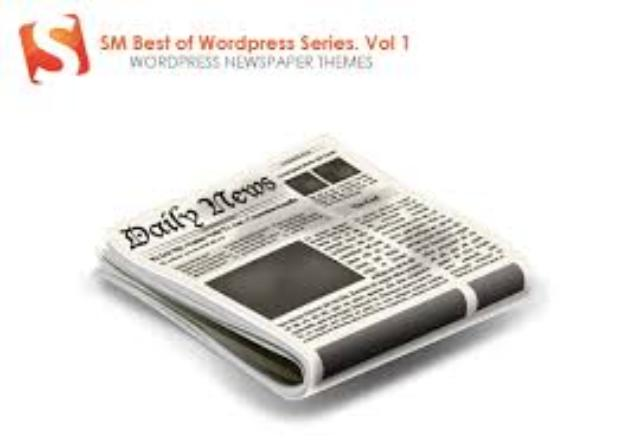cardboard paper: (90, 130, 529, 401), (97, 140, 524, 396), (235, 31, 370, 69), (14, 17, 62, 83), (43, 7, 88, 73), (161, 50, 218, 66), (126, 31, 168, 47)
